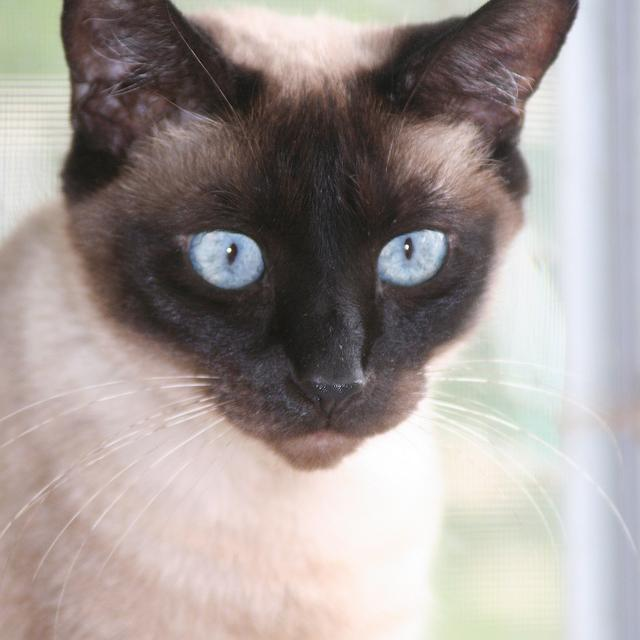animals: (83, 0, 569, 407)
